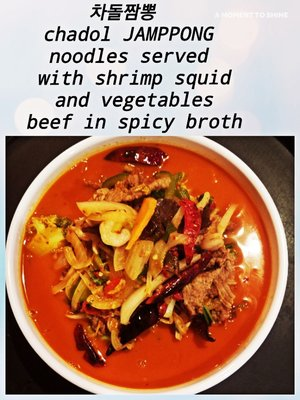sushi: (8, 135, 292, 389)
